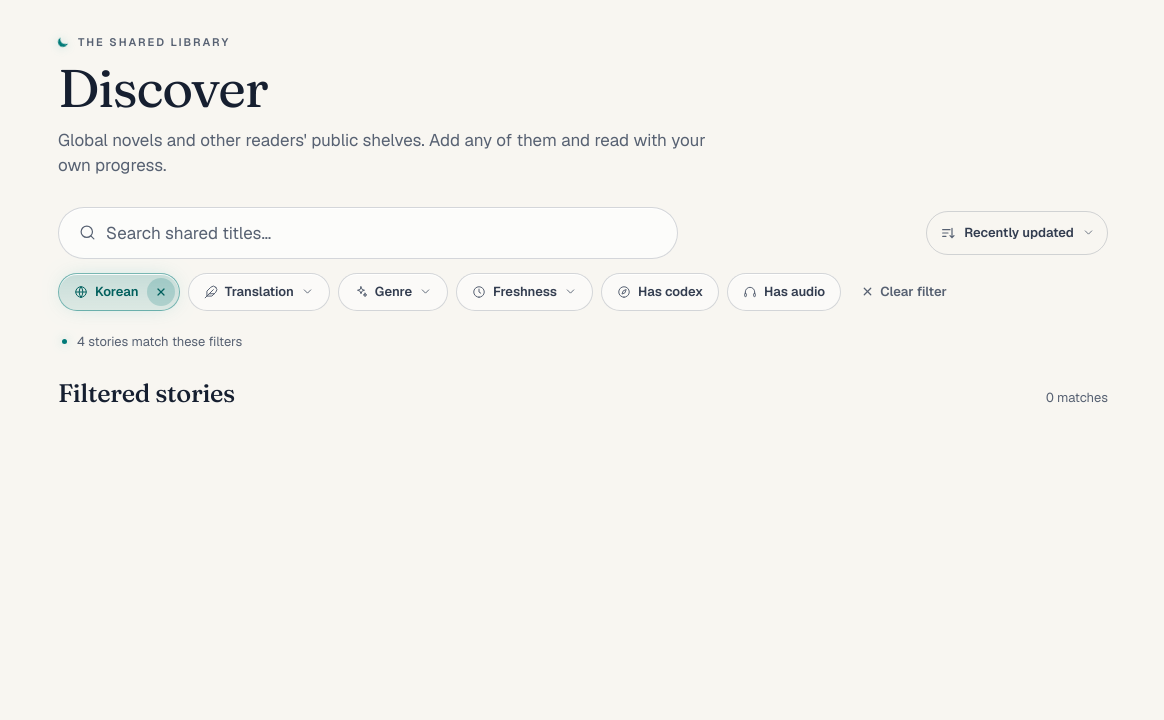
Discover › mirrors filters and the debounced search in the URL
Click the button "Has codex" at (660, 292), box x1=601 y1=273 x2=719 y2=311
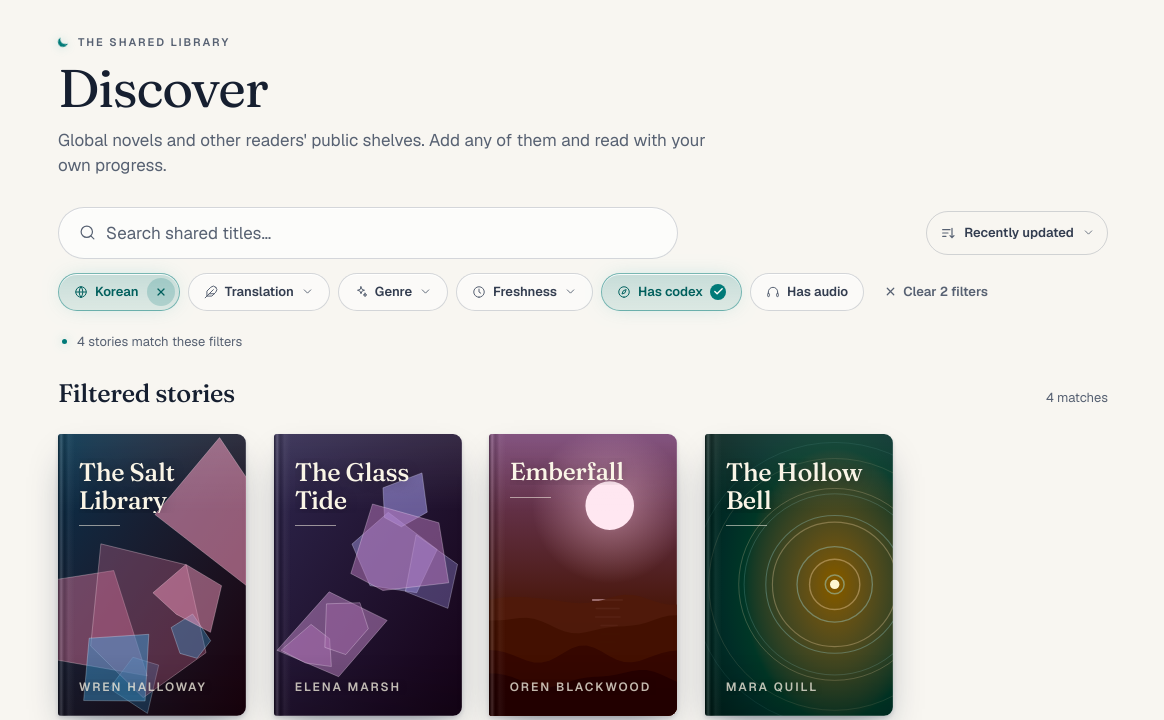
Click the button named "Clear Language" at (161, 292), box x1=147 y1=278 x2=175 y2=306
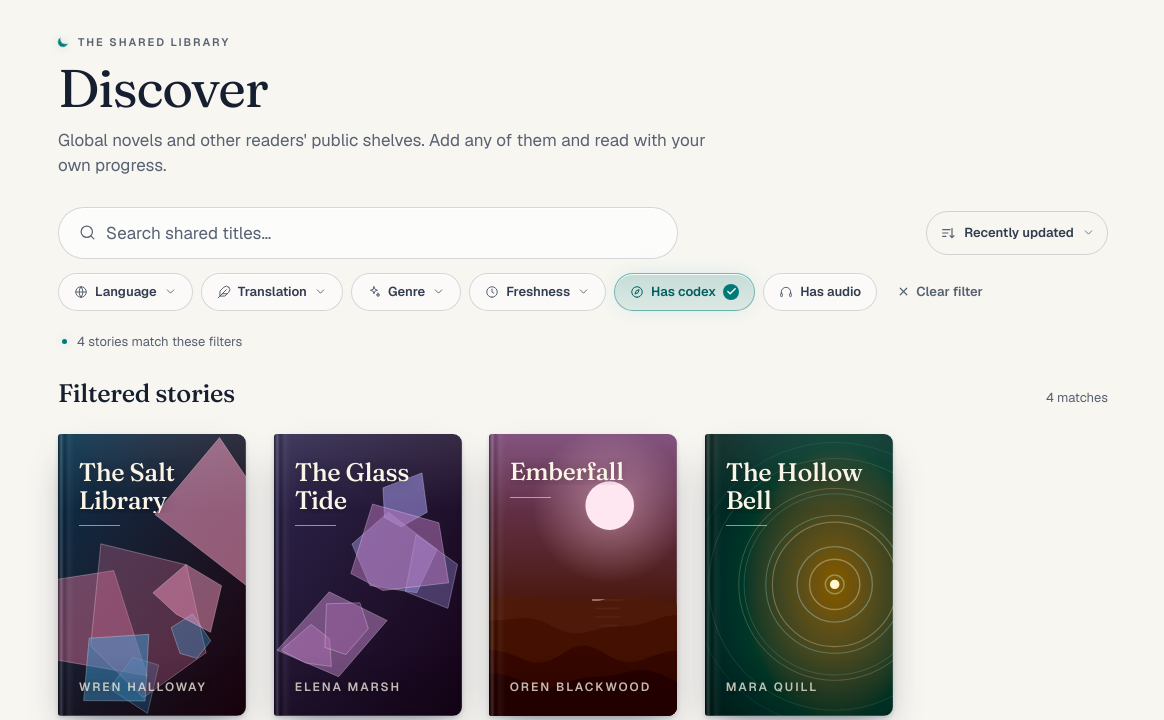
Type "salt" into the field named "Search the shared library" at (388, 233), box x1=106 y1=212 x2=669 y2=254
(page scrolled)
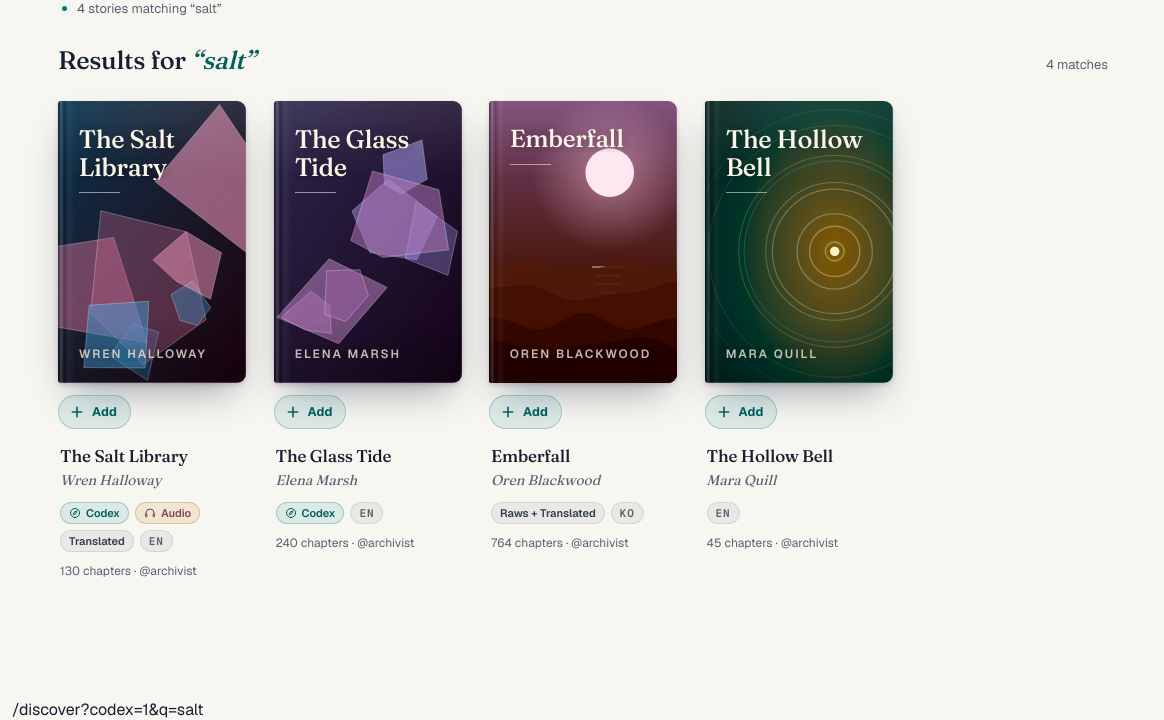
Expected: the text with test id "where" shows "q=salt", x1=12 y1=699 x2=204 y2=719
